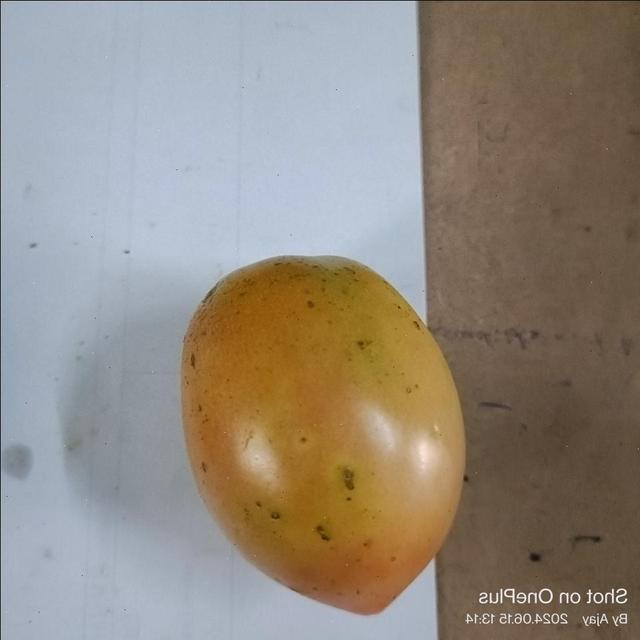Bacterial Spot Fruit: (9, 8, 232, 355)
